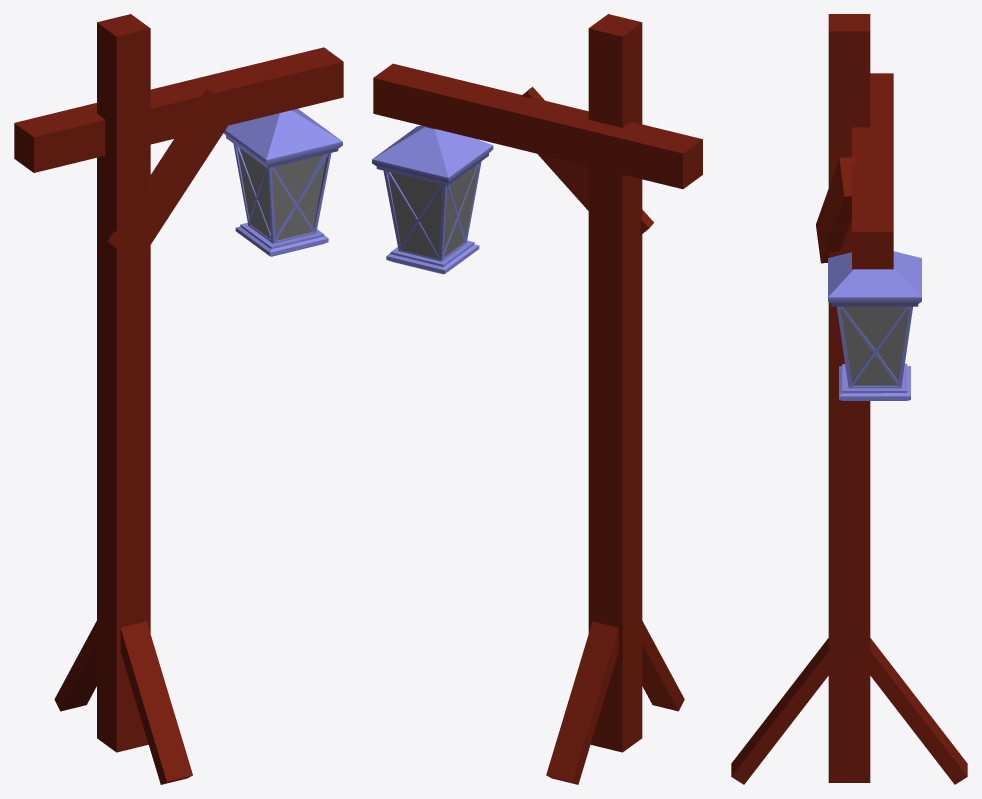
File: Street lamp.fbx
3 renders of one model, left to right at view 1: azimuth 30°, elevation 25°; view 2: azimuth 150°, elevation 25°; view 3: azimuth 270°, elevation 25°, orthographic. The views are drawn at different scales.
Visible parts, largest first — view 1: Post, Lantern, Glass; view 2: Post, Lantern, Glass; view 3: Post, Lantern, Glass.
Boxes of the visible parts, x1,y1,x2,y2 form: Post: [14, 14, 343, 784]; Lantern: [223, 108, 342, 256]; Glass: [238, 148, 326, 240]; Post: [373, 14, 702, 784]; Lantern: [372, 125, 493, 274]; Glass: [388, 164, 478, 258]; Post: [731, 14, 967, 784]; Lantern: [828, 251, 921, 400]; Glass: [841, 306, 909, 385].
Bounding box in the file's own units: 1.82 × 4.03 × 1.14.
